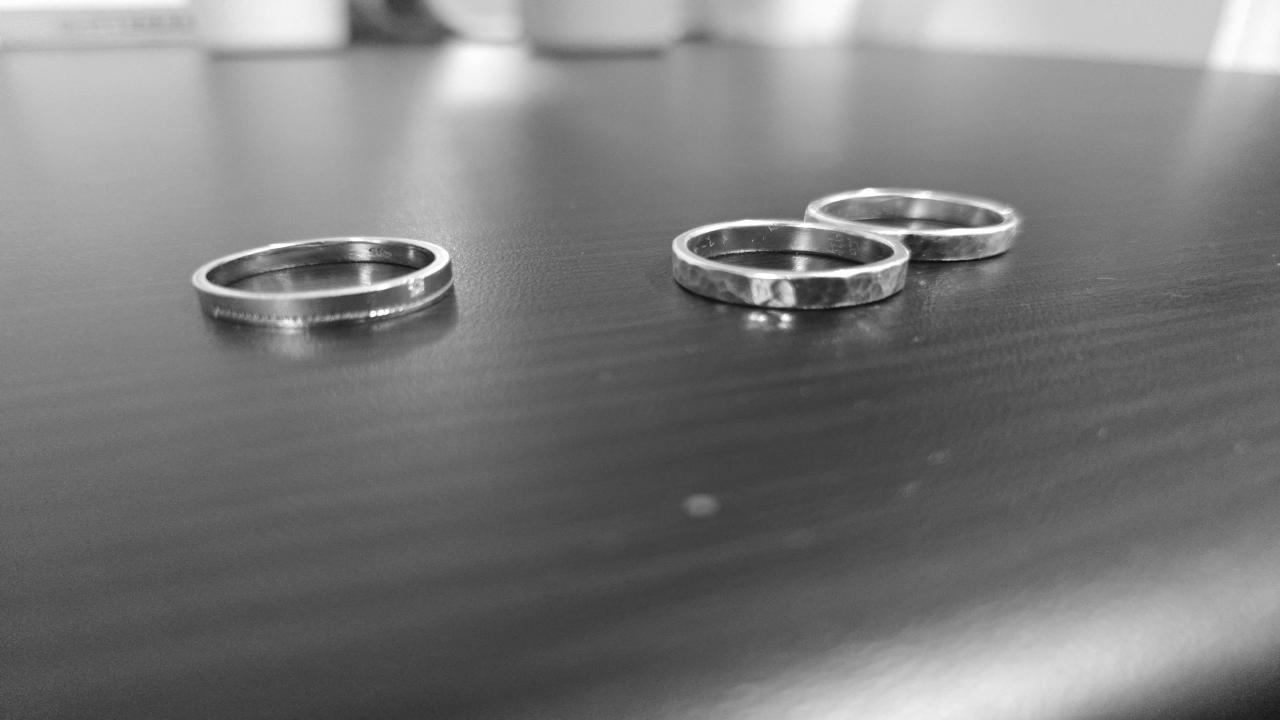ring: (190, 235, 460, 329), (672, 218, 911, 310), (802, 186, 1022, 262)
